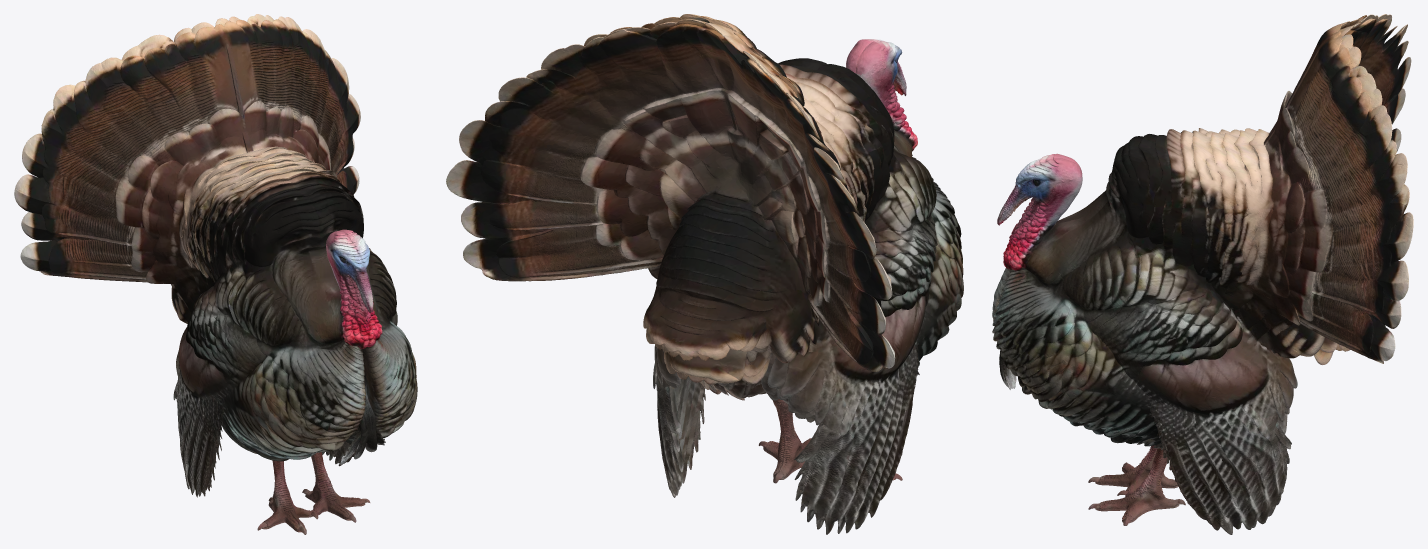
The model's file is Turkey_mobile.glb.
3 renders of one model, left to right at view 1: azimuth 30°, elevation 25°; view 2: azimuth 150°, elevation 25°; view 3: azimuth 270°, elevation 25°, orthographic. The views are drawn at different scales.
Parts seen in each view (by area): view 1: tmphg2xt6gg.obj; view 2: tmphg2xt6gg.obj; view 3: tmphg2xt6gg.obj.
Boxes of the visible parts, box(x1,y1,x2,y2) form: tmphg2xt6gg.obj: box(14, 14, 417, 534); tmphg2xt6gg.obj: box(446, 14, 963, 534); tmphg2xt6gg.obj: box(992, 14, 1413, 534).
Bounding box in the file's own units: 1.43 × 1.65 × 1.36.
Materials: 1 (1 with a texture image).
